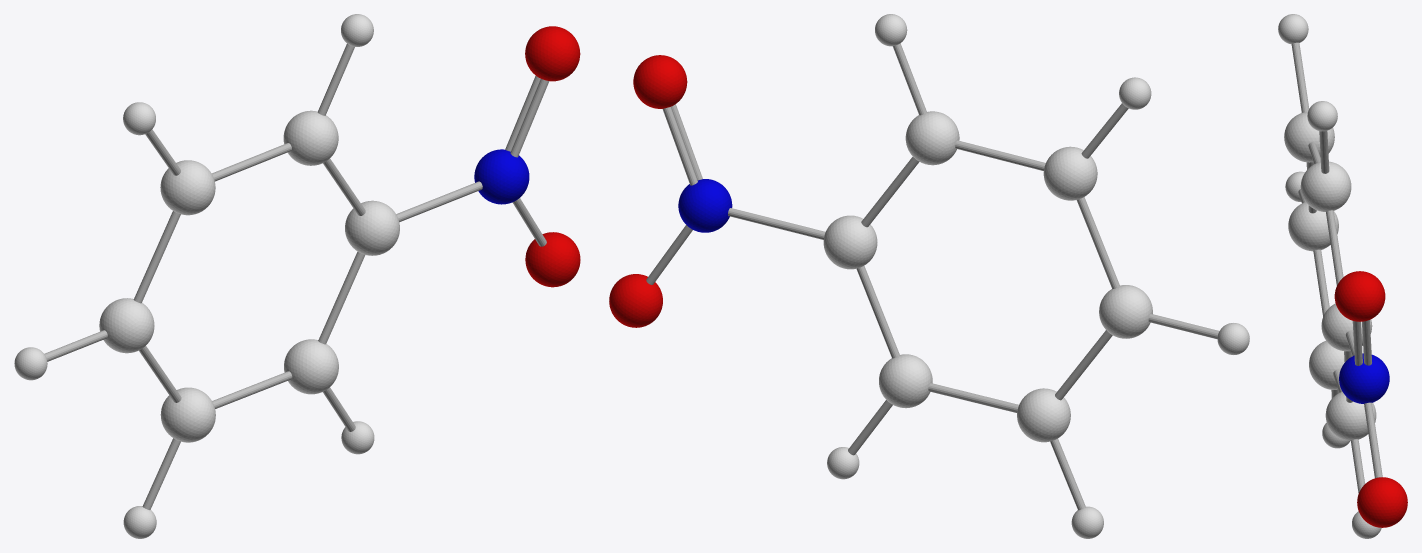
Rendered from c1ccccc1_N____O__O-_.glb.
3 views of the same model, side by side, from view 1: azimuth 30°, elevation 25°; view 2: azimuth 150°, elevation 25°; view 3: azimuth 270°, elevation 25° (orthographic). The views are drawn at different scales.
Parts seen in each view (by area): view 1: world; view 2: world; view 3: world.
Boxes of the visible parts, x1=… form: world: x1=14, y1=14, x2=580, y2=538; world: x1=609, y1=14, x2=1249, y2=538; world: x1=1278, y1=14, x2=1407, y2=538.
Bounding box in the file's own units: 6.33 × 4.77 × 1.28.
